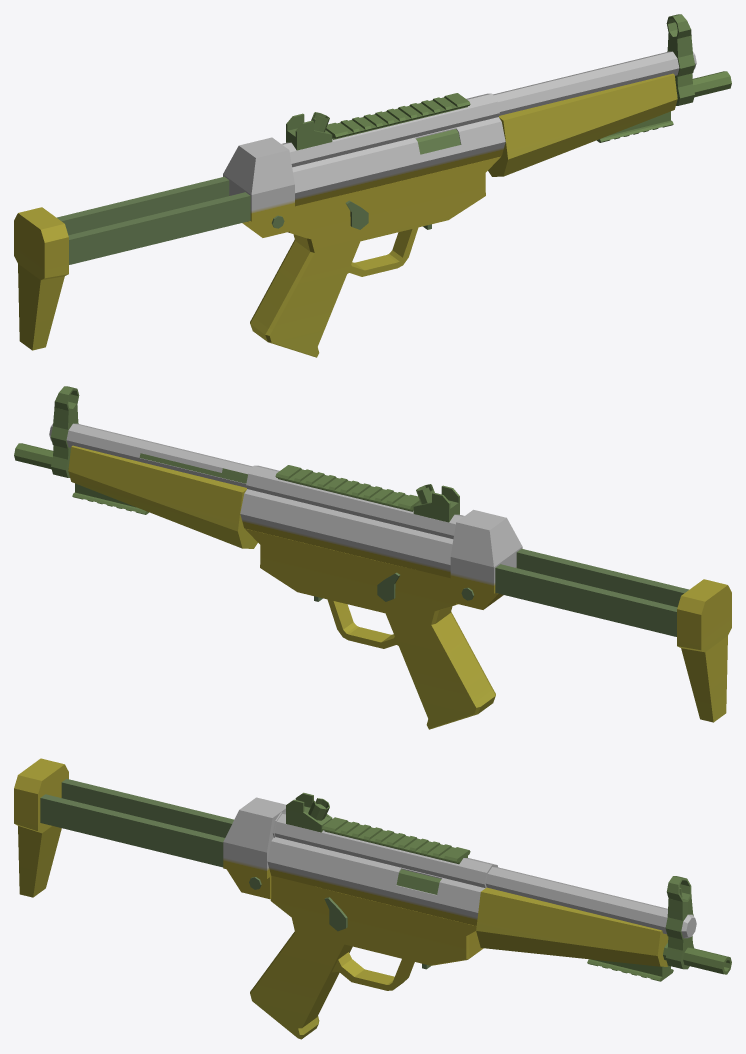
File: SMG2_05.fbx
3 views of the same model, one above another, from view 1: azimuth 30°, elevation 25°; view 2: azimuth 150°, elevation 25°; view 3: azimuth 330°, elevation 25° (orthographic).
Visible parts, largest first — view 1: SMG2_05; view 2: SMG2_05; view 3: SMG2_05.
Boxes of the visible parts, x1,y1,x2,y2 form: SMG2_05: [14, 14, 731, 357]; SMG2_05: [14, 386, 731, 729]; SMG2_05: [14, 758, 731, 1039].
Bounding box in the file's own units: 0.7164 × 0.2409 × 0.0566.
